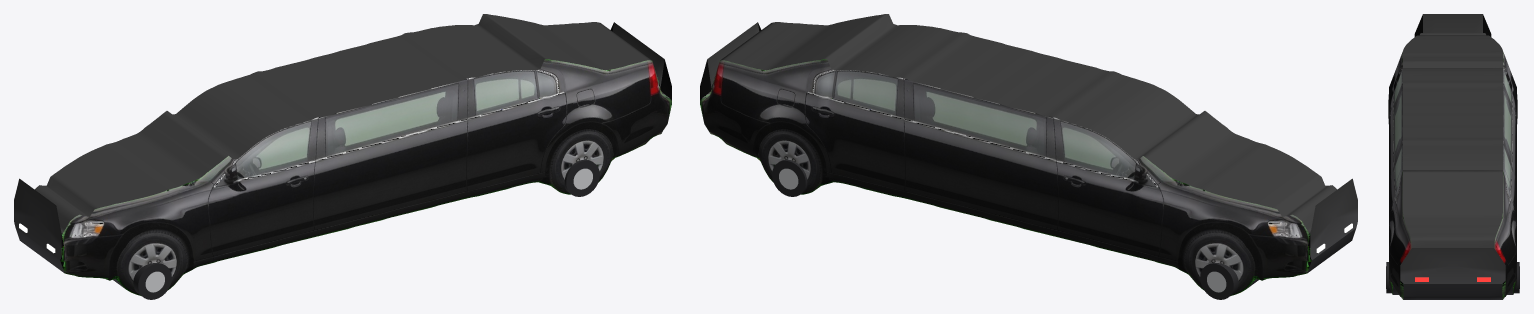
File: limousine.glb
The picture shows the model from 3 angles, left to right: view 1: azimuth 30°, elevation 25°; view 2: azimuth 150°, elevation 25°; view 3: azimuth 270°, elevation 25°; orthographic projection. The views are drawn at different scales.
Parts seen in each view (by area): view 1: limousine; view 2: limousine; view 3: limousine.
Part boxes in pixels (x1=…): limousine: x1=14, y1=14, x2=671, y2=299; limousine: x1=700, y1=14, x2=1357, y2=299; limousine: x1=1386, y1=14, x2=1519, y2=299.
Size of the model in its own units: 5.73 by 1.24 by 1.36.
Materials: 8 (2 with a texture image).
